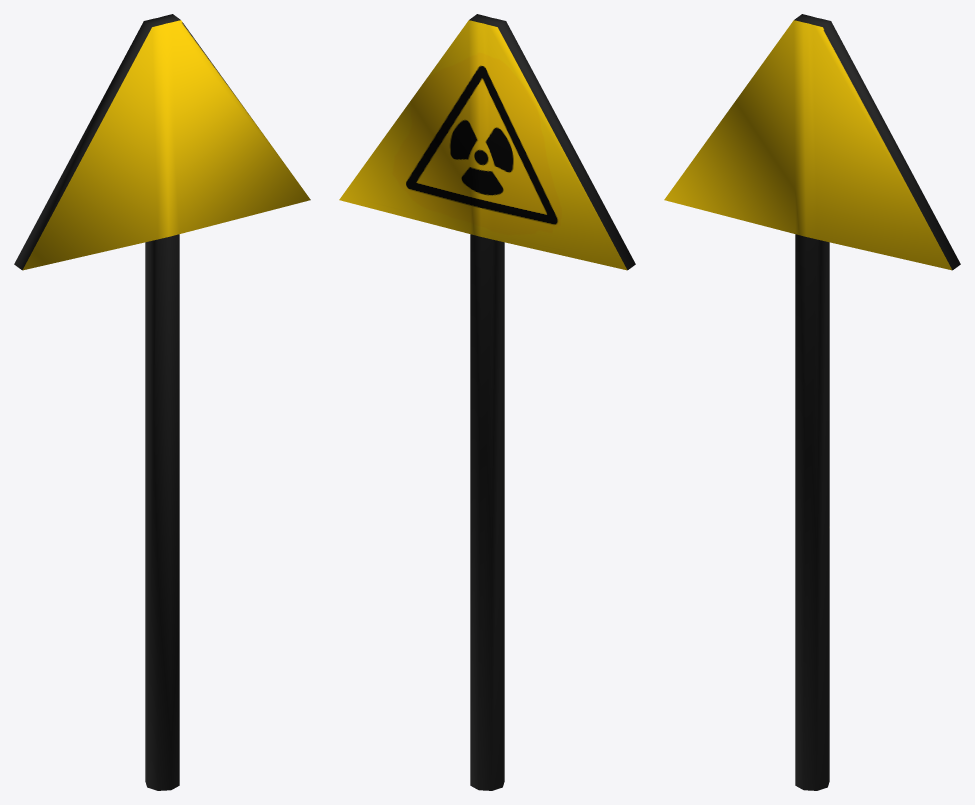
File: poste.fbx
3 views of the same model, side by side, from view 1: azimuth 30°, elevation 25°; view 2: azimuth 150°, elevation 25°; view 3: azimuth 330°, elevation 25° (orthographic).
Visible parts, largest first — view 1: Plane; view 2: Plane; view 3: Plane.
Boxes of the visible parts, x1,y1,x2,y2 form: Plane: (14,14,310,790); Plane: (339,14,635,790); Plane: (664,14,960,790).
Size of the model in its own units: 200 by 505 by 21.22.
Materials: 1 (1 with a texture image).
